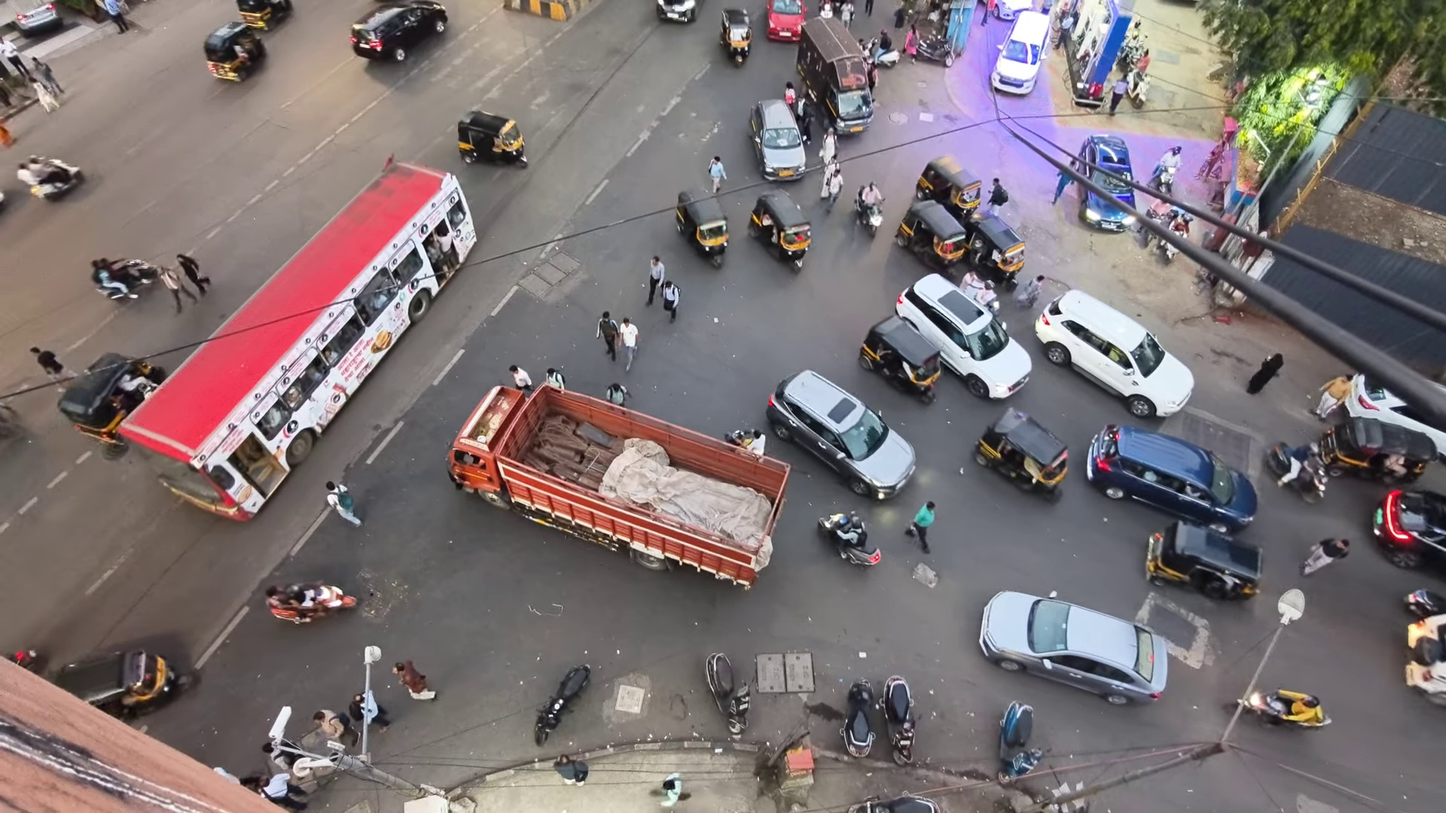driving: (118, 163, 475, 519), (448, 386, 789, 586), (979, 591, 1167, 704), (1036, 291, 1192, 418), (766, 370, 915, 498), (1087, 425, 1257, 531), (895, 273, 1031, 398), (53, 649, 191, 719), (796, 17, 874, 134), (1146, 521, 1262, 599), (1341, 373, 1445, 455), (975, 409, 1066, 501), (859, 316, 941, 403), (350, 0, 447, 61), (1372, 489, 1445, 568), (1078, 135, 1135, 230), (895, 199, 967, 270), (748, 189, 810, 269), (749, 100, 806, 180), (915, 154, 981, 220), (675, 190, 728, 267), (458, 111, 527, 167), (819, 513, 880, 566), (719, 8, 752, 65), (14, 2, 63, 37), (765, 0, 806, 41)
walking: (242, 773, 306, 810), (157, 266, 198, 312), (1301, 538, 1349, 575), (313, 709, 358, 746), (325, 481, 362, 526), (394, 660, 435, 699), (348, 693, 390, 731), (905, 501, 935, 553), (1314, 376, 1350, 419), (30, 347, 74, 382), (1247, 353, 1283, 394), (177, 253, 211, 294), (0, 38, 32, 81), (261, 741, 299, 772), (595, 311, 618, 360), (32, 59, 63, 95), (96, 0, 129, 32), (619, 317, 638, 371), (1014, 275, 1045, 308), (554, 755, 588, 785), (646, 255, 665, 305), (825, 162, 843, 212), (32, 80, 59, 113), (795, 97, 813, 145), (1054, 11, 1075, 49), (987, 178, 1008, 215), (661, 281, 680, 321), (1051, 170, 1073, 204), (1109, 75, 1128, 114), (661, 772, 682, 807), (819, 126, 837, 166), (708, 156, 726, 193), (508, 365, 532, 392), (605, 383, 629, 405), (905, 25, 918, 62), (545, 367, 564, 389), (981, 0, 996, 26), (840, 0, 854, 27), (784, 81, 796, 107), (865, 0, 873, 16)
